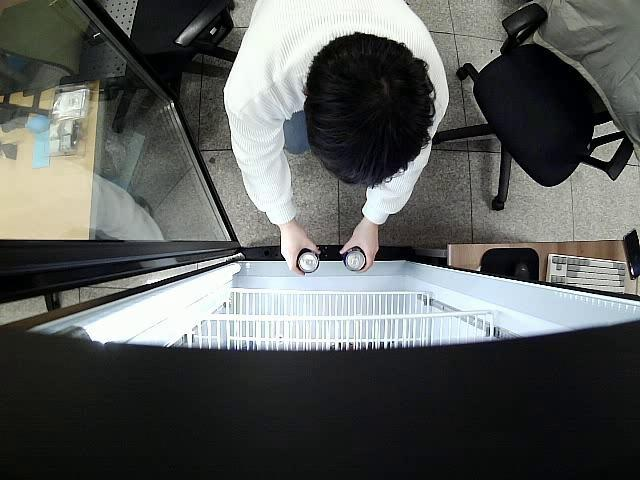14_welchsGrape: (344, 247, 367, 272), (298, 248, 320, 272)
